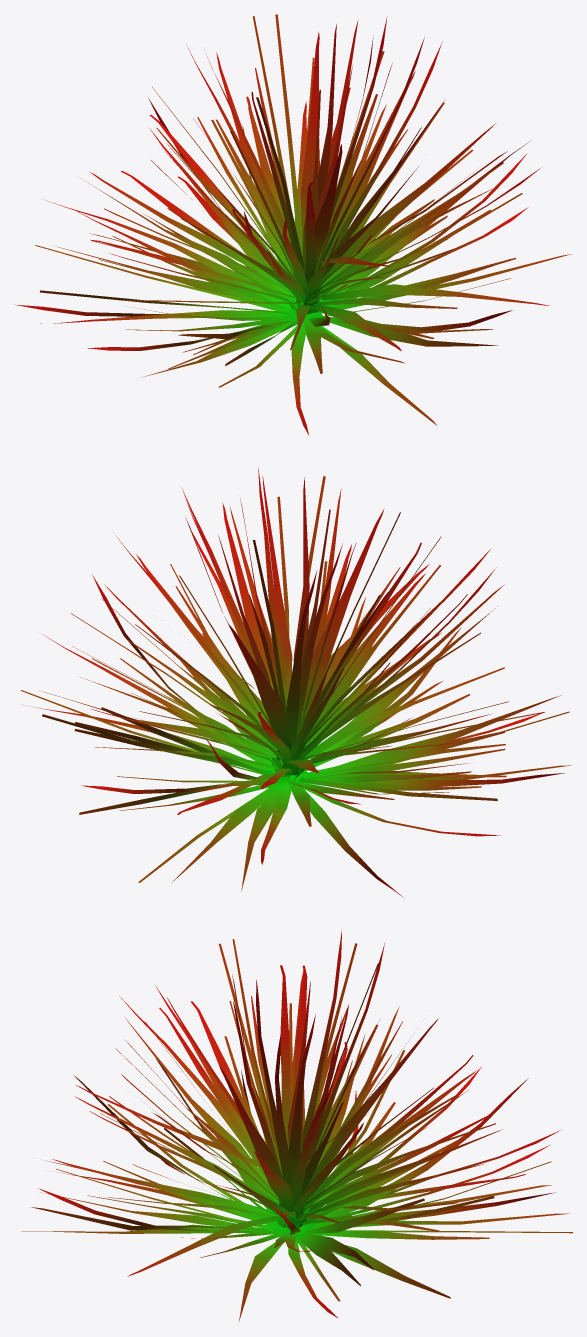
The model's file is Var11_LOD4.fbx.
3 renders of one model, top to bottom at view 1: azimuth 30°, elevation 25°; view 2: azimuth 150°, elevation 25°; view 3: azimuth 270°, elevation 25°, orthographic. The views are drawn at different scales.
Parts seen in each view (by area): view 1: _uetk_Var11_LOD4; view 2: _uetk_Var11_LOD4; view 3: _uetk_Var11_LOD4.
Part boxes in pixels (<box>): _uetk_Var11_LOD4: <box>15,14,571,435</box>; _uetk_Var11_LOD4: <box>21,468,571,898</box>; _uetk_Var11_LOD4: <box>21,928,572,1321</box>.
Size of the model in its own units: 98.74 by 56.41 by 98.73.
